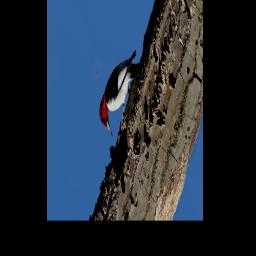Woodpecker: (94, 44, 146, 142)
